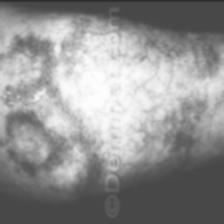Unclassified: (0, 93, 62, 185), (168, 92, 202, 152)
